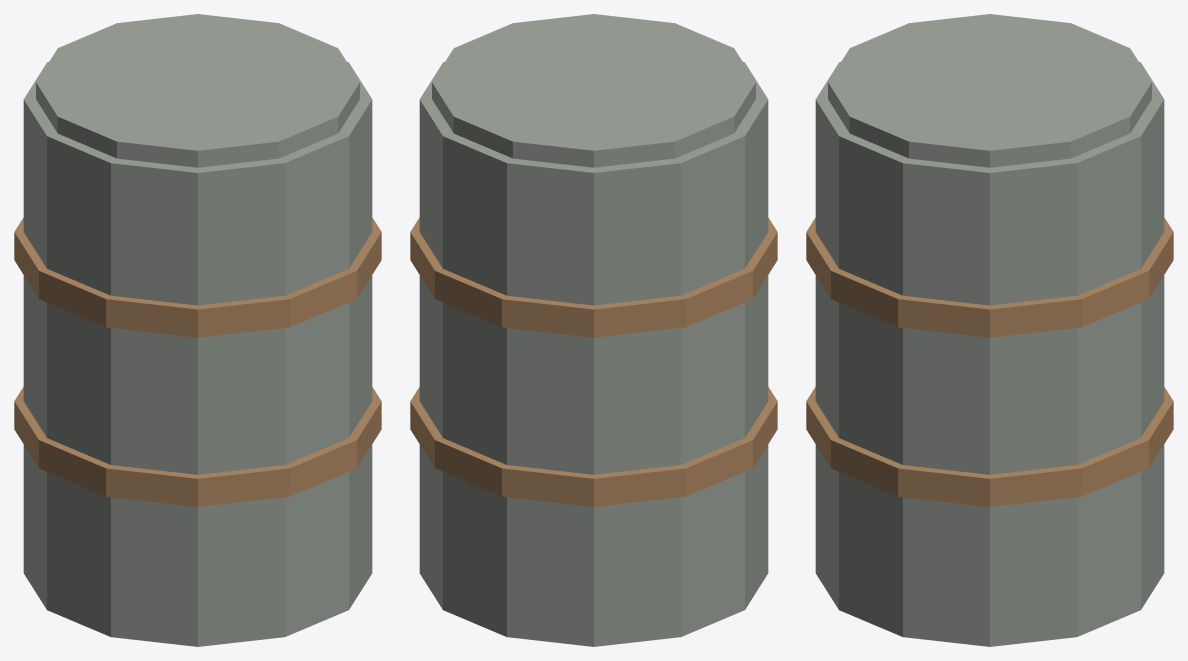
Rendered from bidon.glb.
The picture shows the model from 3 angles, left to right: view 1: azimuth 30°, elevation 25°; view 2: azimuth 150°, elevation 25°; view 3: azimuth 270°, elevation 25°; orthographic projection.
Parts seen in each view (by area): view 1: bidon; view 2: bidon; view 3: bidon.
Boxes of the visible parts, x1,y1,x2,y2 form: bidon: (14, 14, 381, 646); bidon: (410, 14, 777, 646); bidon: (806, 14, 1173, 646).
Size of the model in its own units: 0.59 by 0.87 by 0.59.
